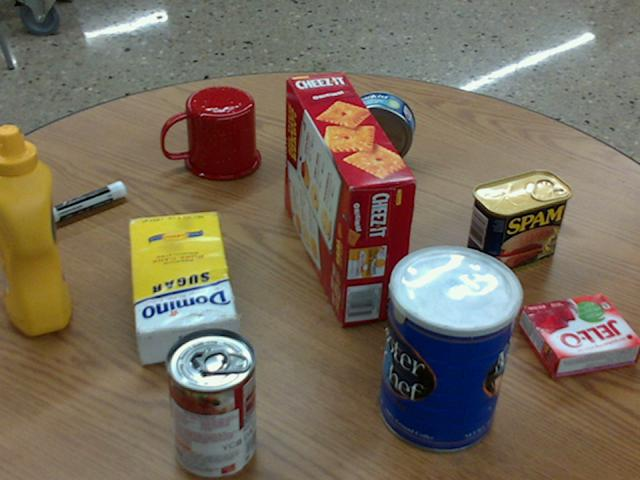cracker_box: (286, 73, 415, 325)
gelatin_box: (520, 293, 639, 377)
large_marker: (20, 180, 125, 231)
master_chef_can: (379, 246, 521, 452)
mug: (161, 87, 260, 180)
mustard_bottle: (0, 124, 69, 333)
potted_meat_can: (466, 170, 571, 276)
sugar_box: (128, 210, 236, 363)
tomato_soup_can: (162, 328, 254, 477)
tuna_fish_can: (341, 92, 413, 165)
